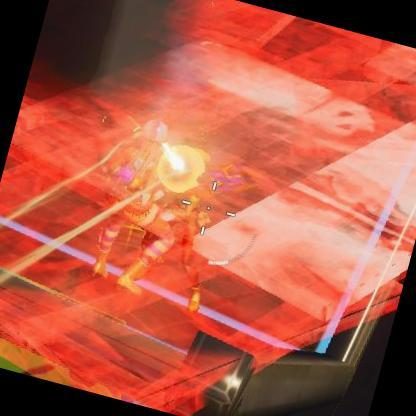person: (92, 115, 182, 284), (144, 147, 235, 301)
